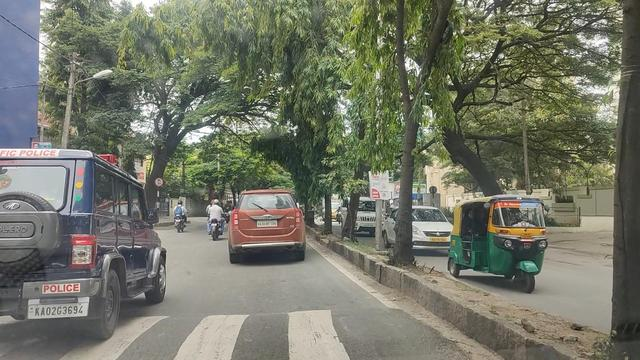LMV: (0, 151, 165, 322), (234, 191, 303, 262)
SpeedBump: (116, 302, 353, 360)
